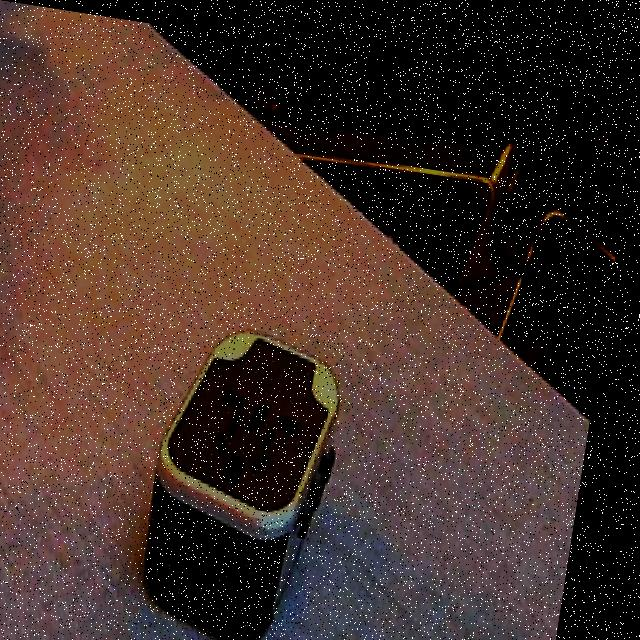adapter: (147, 308, 362, 640)
